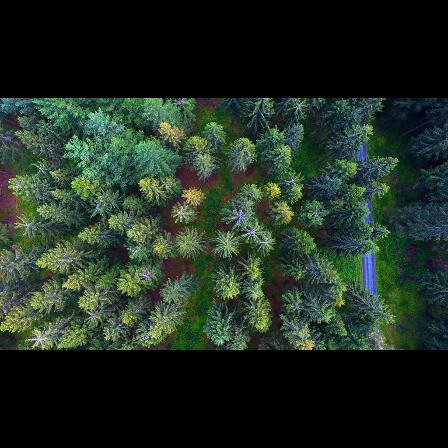Sick: (303, 201, 329, 228), (240, 223, 266, 248), (227, 207, 250, 230), (25, 329, 50, 350), (83, 309, 104, 327)
